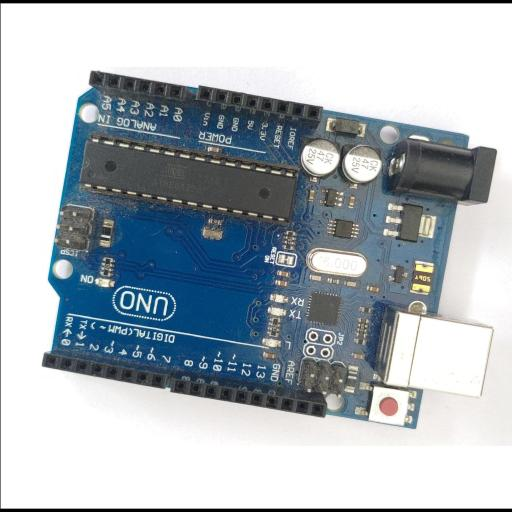Arduino Uno R3: (41, 69, 497, 430)
